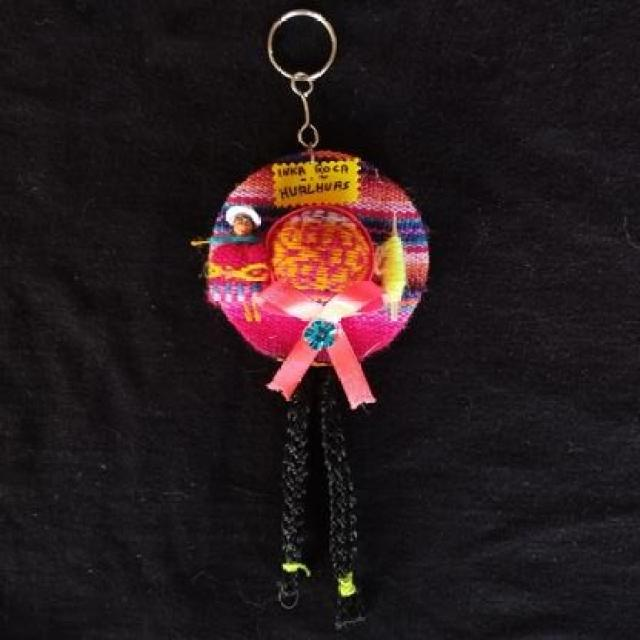Llavero: (192, 148, 431, 408)
